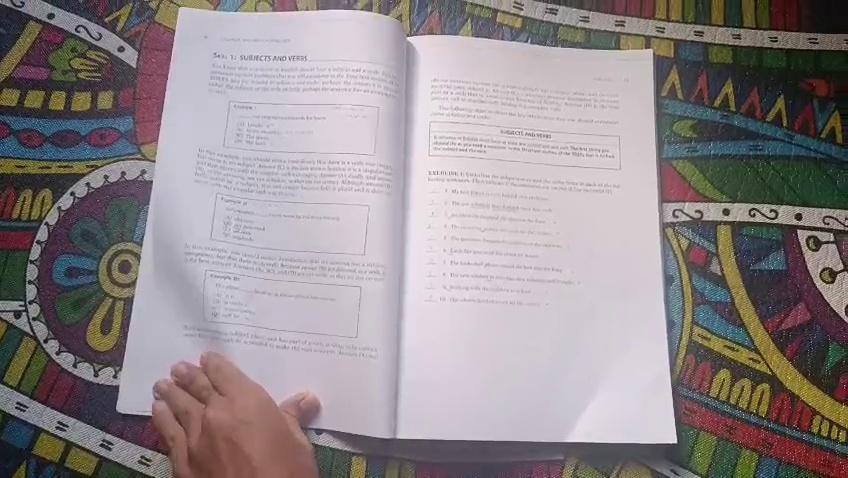Kertas: (401, 50, 651, 446), (179, 14, 404, 346)
